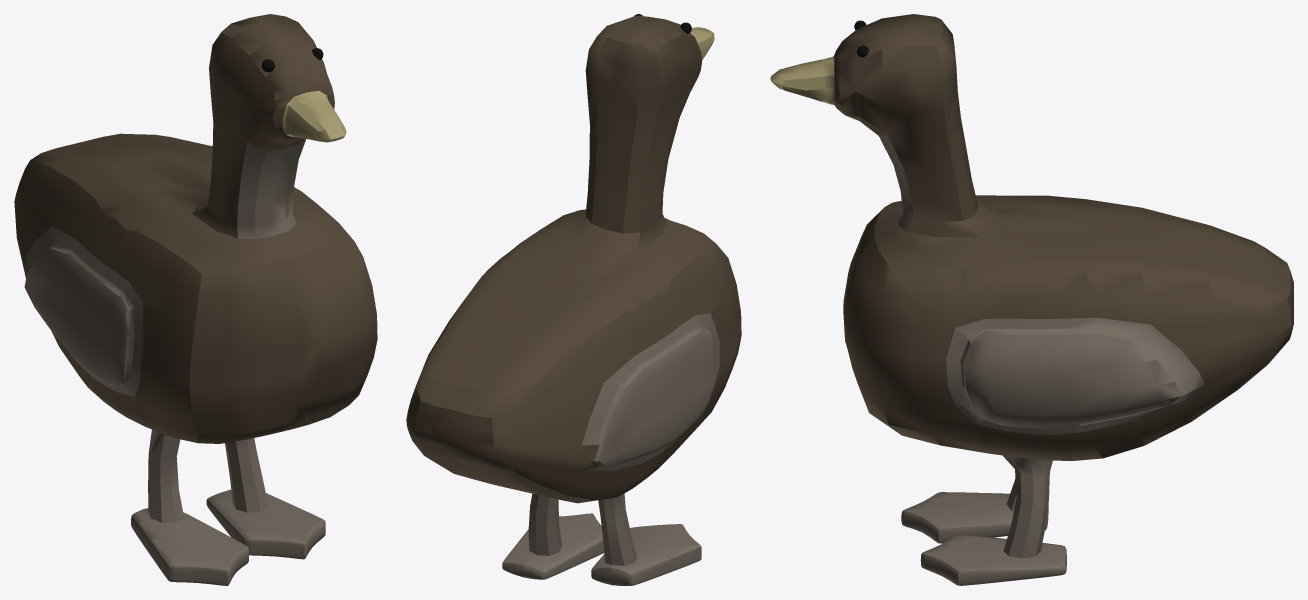
File: duck3.gltf
The picture shows the model from 3 angles, left to right: view 1: azimuth 30°, elevation 25°; view 2: azimuth 150°, elevation 25°; view 3: azimuth 270°, elevation 25°; orthographic projection. The views are drawn at different scales.
Visible parts, largest first — view 1: Cube; view 2: Cube; view 3: Cube.
Boxes of the visible parts, x1=… form: Cube: x1=14, y1=14, x2=377, y2=585; Cube: x1=406, y1=14, x2=741, y2=585; Cube: x1=770, y1=14, x2=1293, y2=585.
Size of the model in its own units: 6.67 by 14.97 by 13.49.
